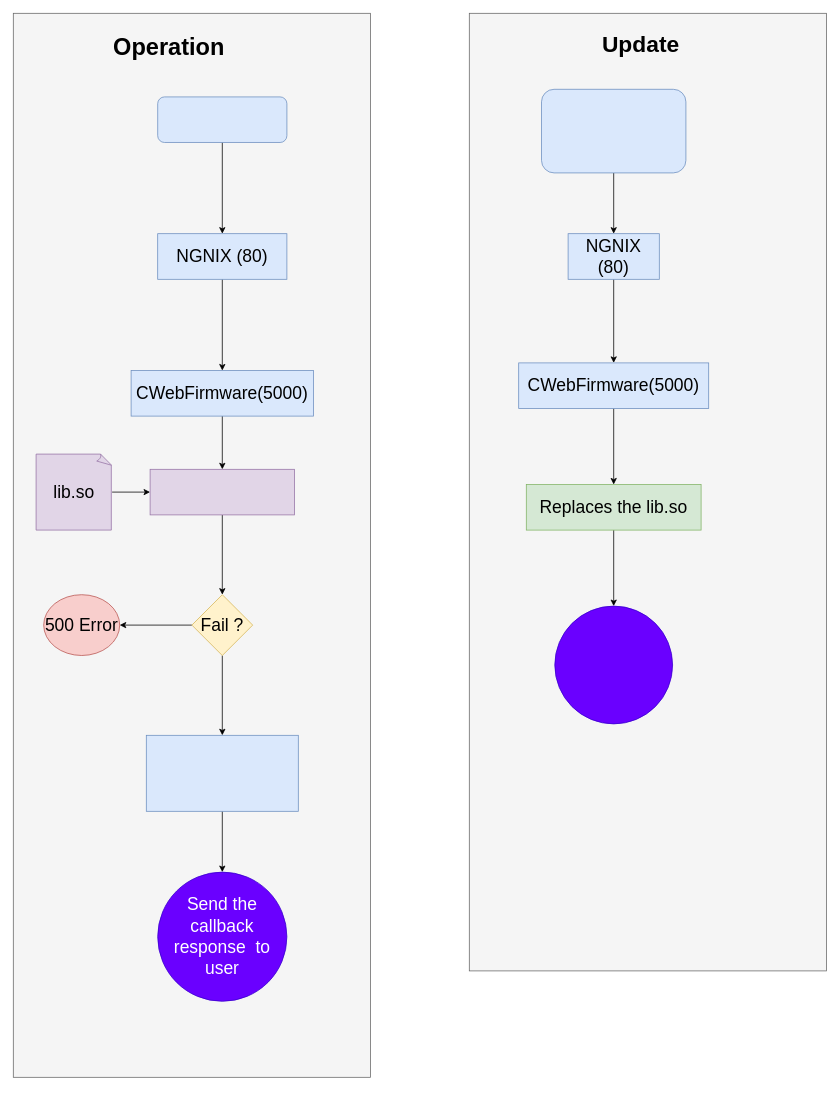
Image size: 840x1097. Some labels were removed from this diagram. Each missing label, with the box of its shape:
Calls the callback function inside lib.so: (146, 735, 298, 811)
Devops calls to upload lib.so: (541, 89, 686, 173)
Loads the lib.so: (149, 469, 294, 515)
Send the 202 menssage: (554, 605, 673, 724)
User Requisition: (157, 96, 287, 142)
